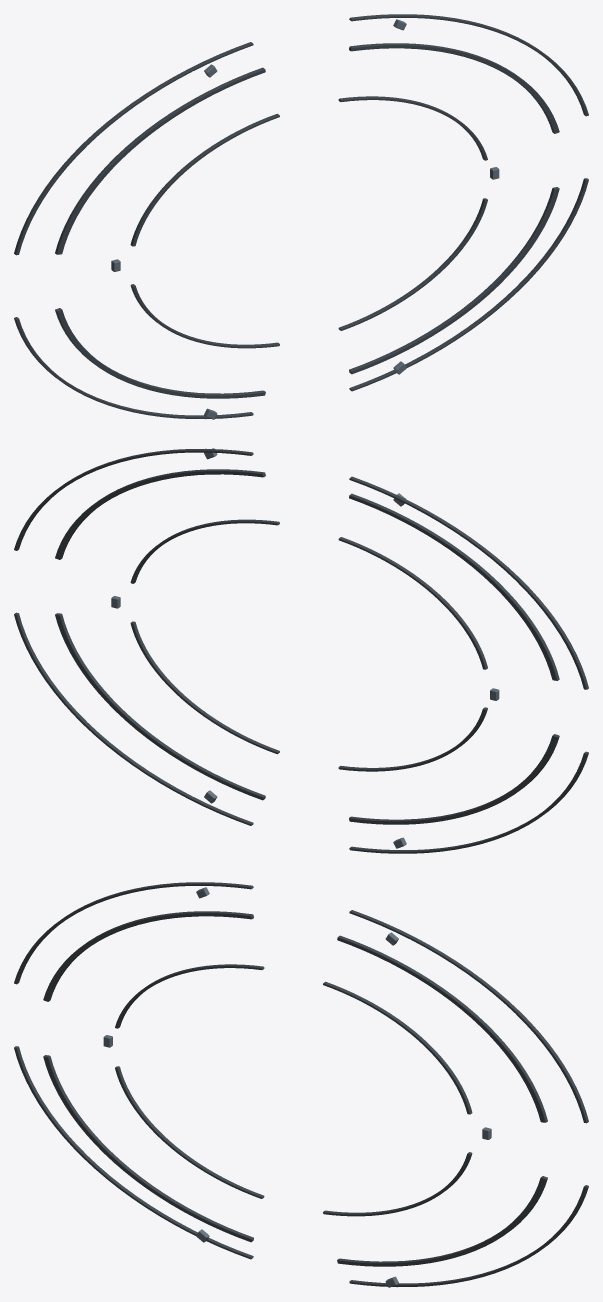
The model's file is FZH_Capability_Support.glb.
3 renders of one model, top to bottom at view 1: azimuth 30°, elevation 25°; view 2: azimuth 150°, elevation 25°; view 3: azimuth 330°, elevation 25°, orthographic.
Parts seen in each view (by area): view 1: Orbit_Rail_Main, Orbit_Rail_Secondary, Background_Data_Ring, Micro_Data_Node; view 2: Orbit_Rail_Main, Orbit_Rail_Secondary, Background_Data_Ring, Micro_Data_Node; view 3: Orbit_Rail_Main, Orbit_Rail_Secondary, Background_Data_Ring, Micro_Data_Node.
Boxes of the visible parts, box(x1,y1,x2,y2) form: Orbit_Rail_Main: box(55, 43, 559, 398); Orbit_Rail_Secondary: box(14, 14, 588, 419); Background_Data_Ring: box(130, 96, 487, 348); Micro_Data_Node: box(111, 19, 499, 419); Orbit_Rail_Main: box(55, 469, 559, 824); Orbit_Rail_Secondary: box(14, 448, 588, 853); Background_Data_Ring: box(130, 519, 487, 771); Micro_Data_Node: box(111, 448, 499, 848); Orbit_Rail_Main: box(43, 911, 547, 1266); Orbit_Rail_Secondary: box(14, 882, 588, 1287); Background_Data_Ring: box(115, 964, 472, 1216); Micro_Data_Node: box(103, 887, 491, 1287).
Bounding box in the file's own units: 3.39 × 2.1 × 0.104.
